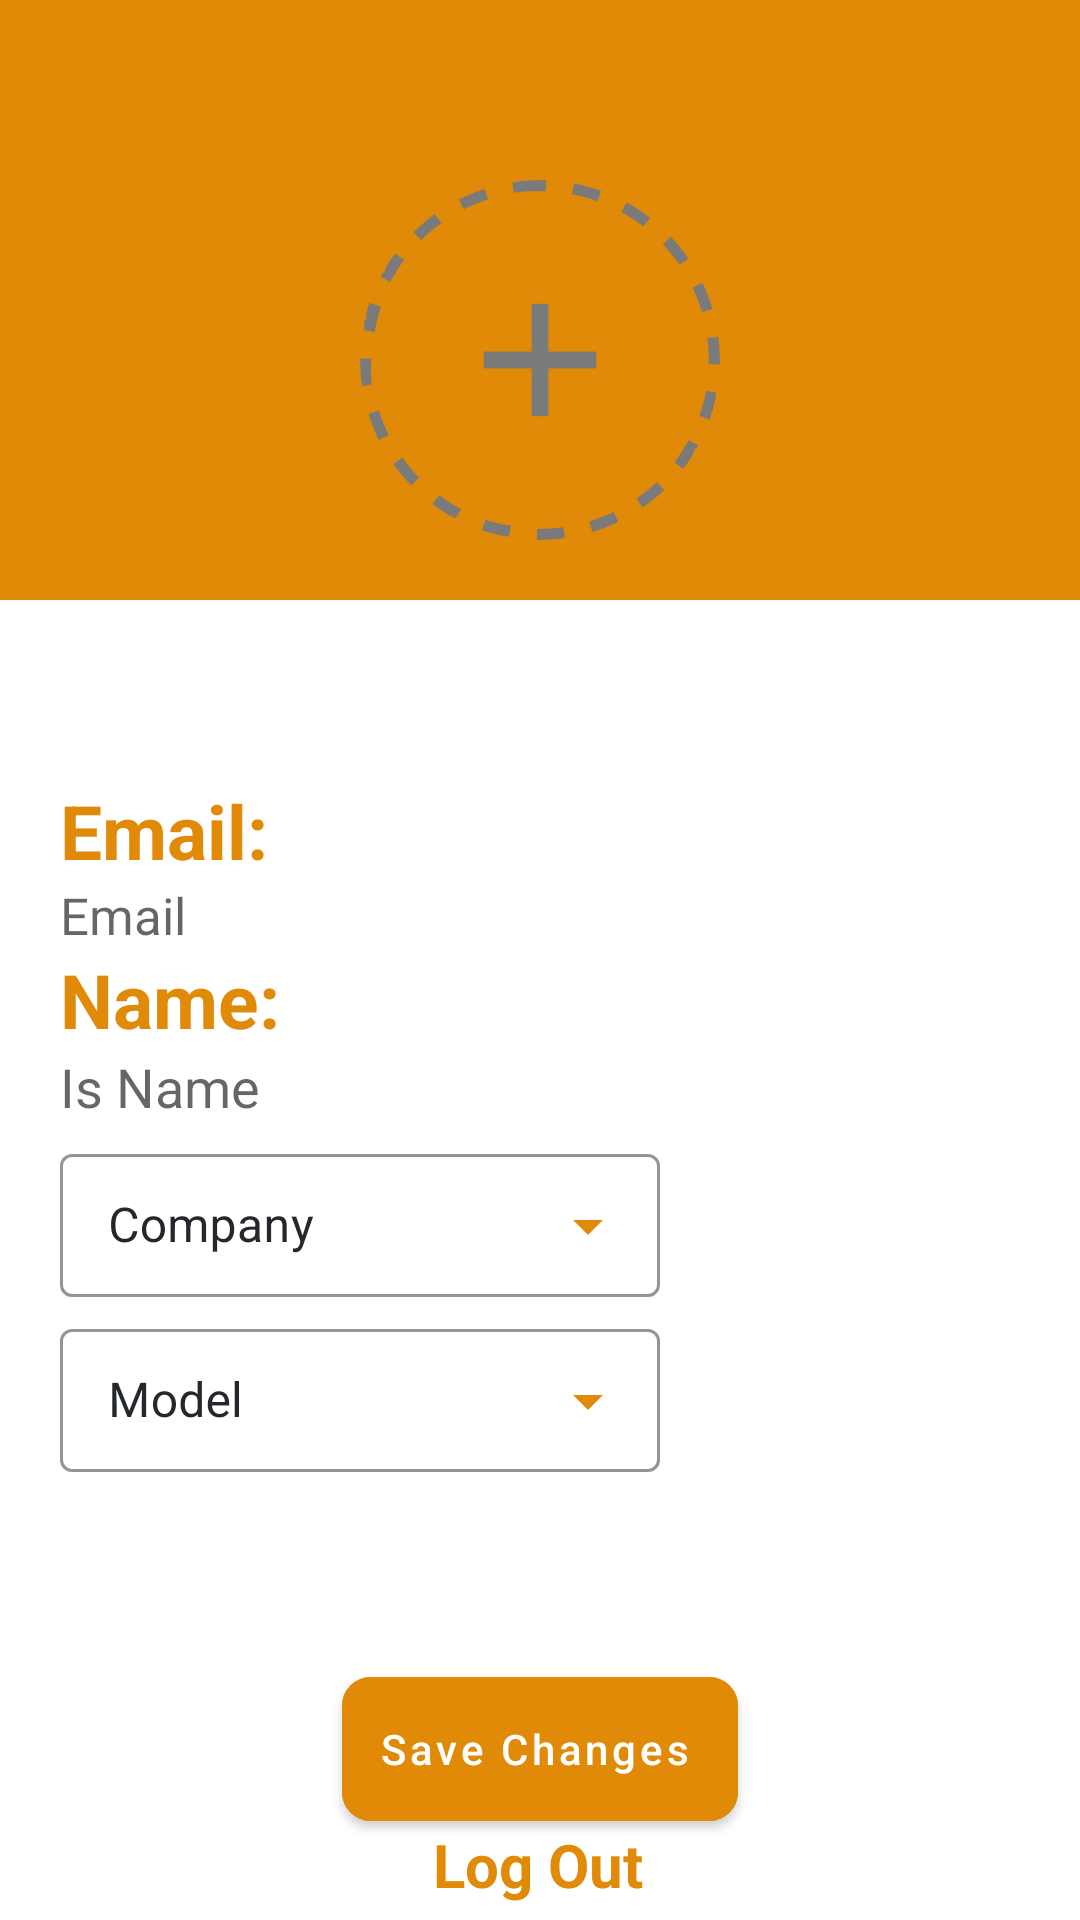

Where to tap for icons on this 1080px x 1920px app screen, as (x=x, y=y):
circle add picture: (x=540, y=360)
